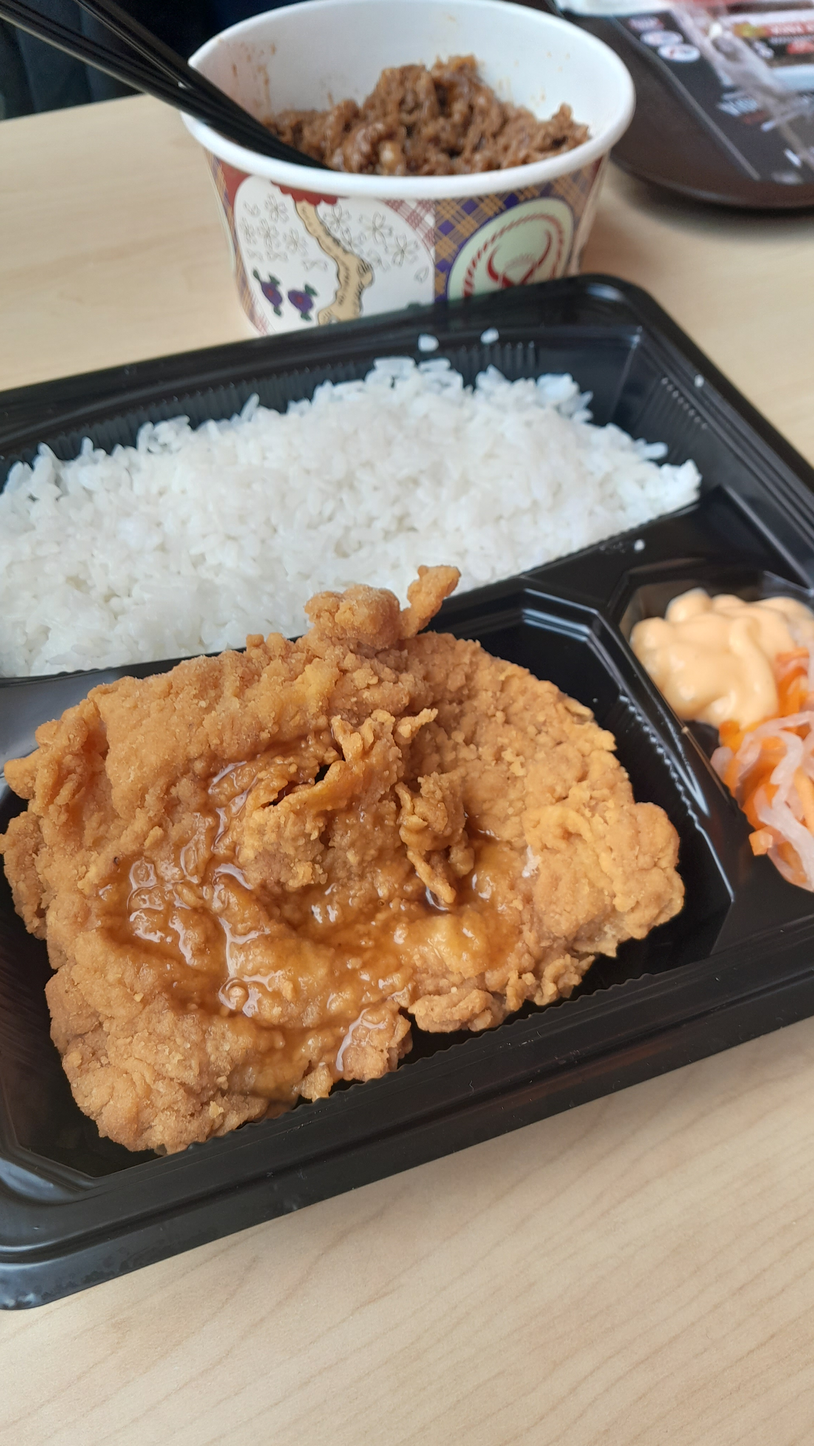buah_sayur_vitA: (698, 670, 814, 909)
daging: (0, 631, 695, 1093)
makanan_berpati: (0, 324, 656, 631)
